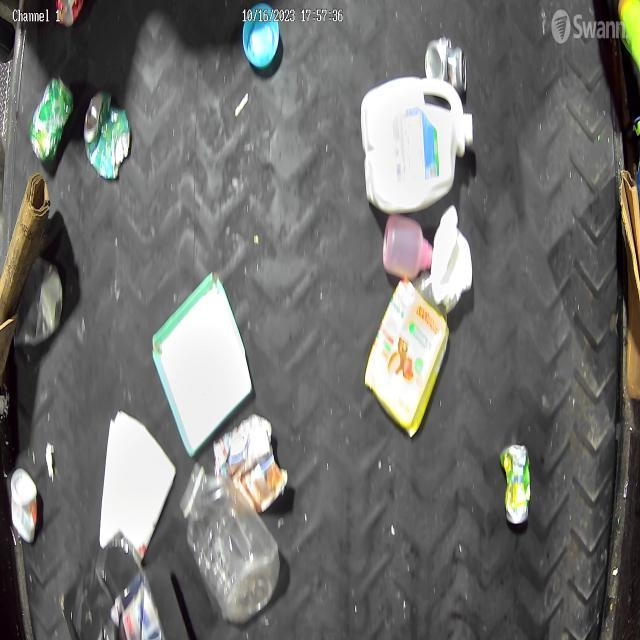can: (82, 88, 130, 180), (29, 76, 74, 164), (499, 443, 532, 525), (424, 36, 468, 93), (11, 468, 38, 543)
milk_jug: (361, 76, 474, 214)
non_white_jug: (364, 277, 450, 438)
